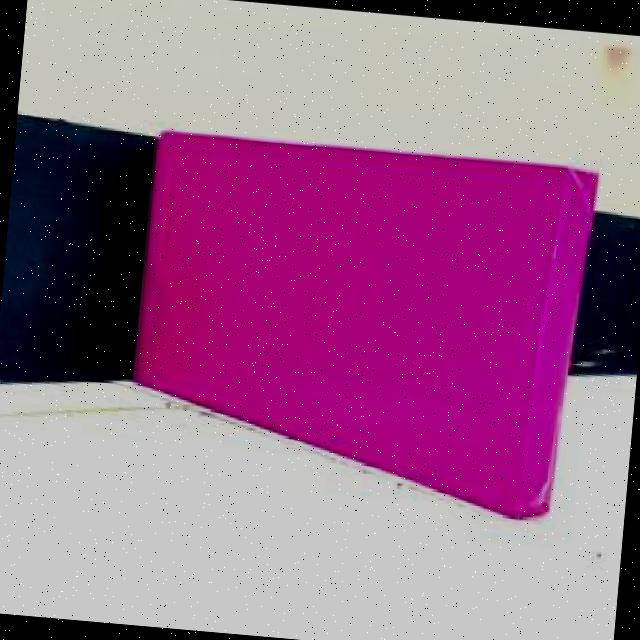xparking: (134, 138, 596, 464)
